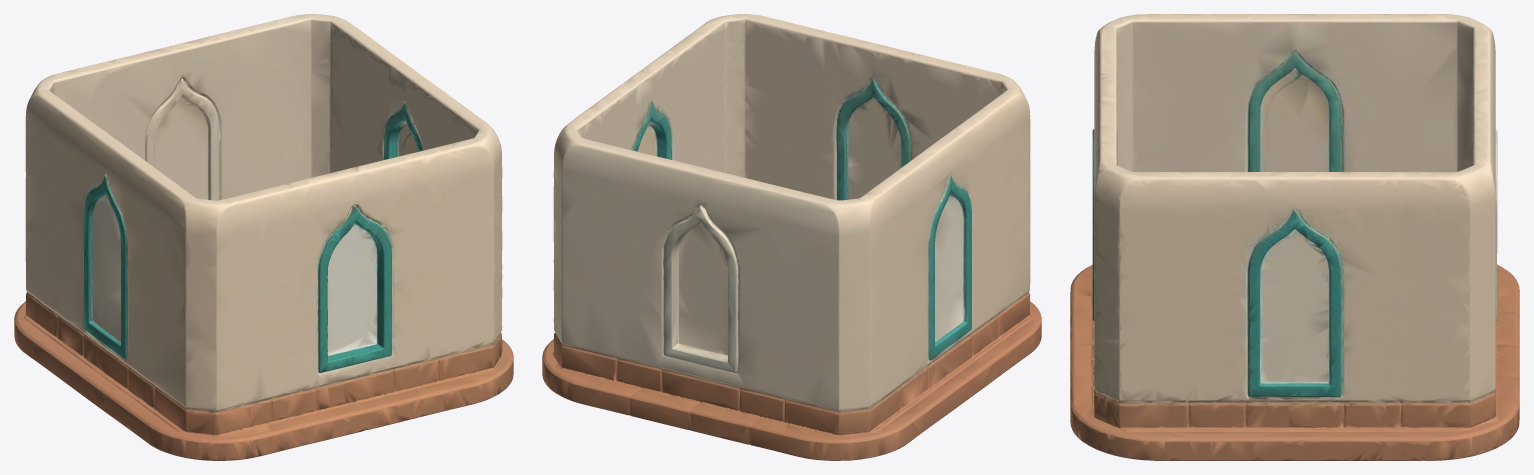
Rendered from masjid-room-closed.glb.
3 views of the same model, side by side, from view 1: azimuth 30°, elevation 25°; view 2: azimuth 150°, elevation 25°; view 3: azimuth 270°, elevation 25° (orthographic). The views are drawn at different scales.
Size of the model in its own units: 1.9 by 1.27 by 1.9.
1 material, 1 textured.
